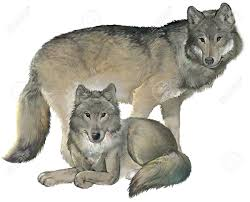Lobo: (27, 2, 244, 84), (55, 82, 190, 198)
